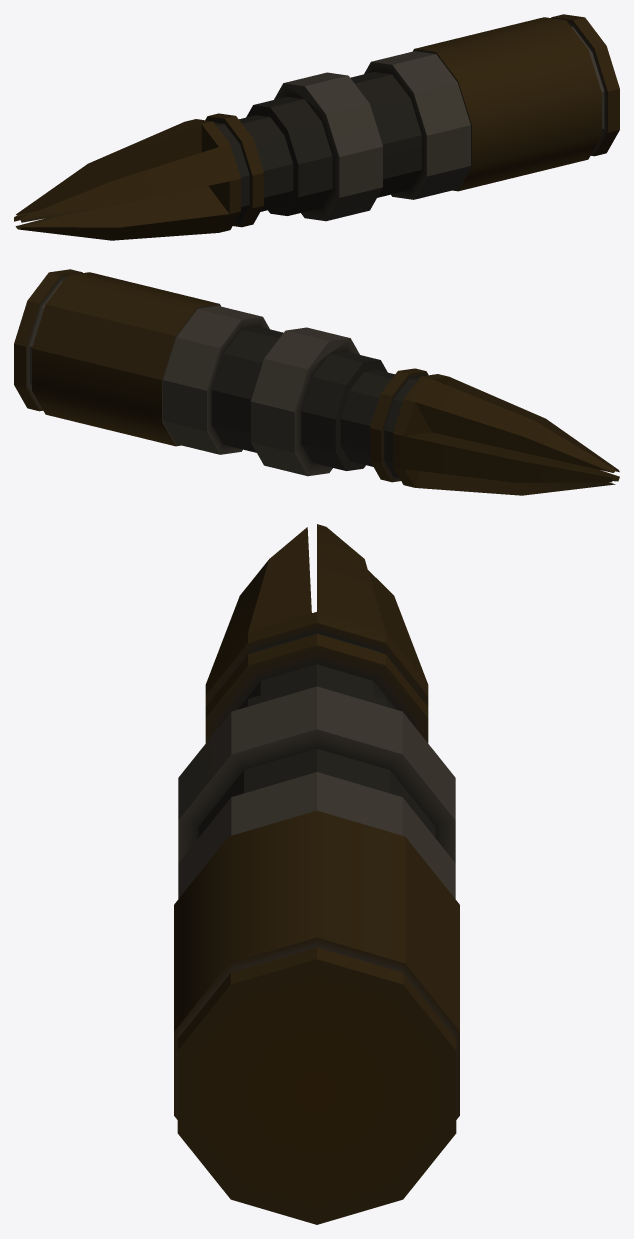
Rendered from Hunter_Skill_Bullet.fbx.
3 renders of one model, top to bottom at view 1: azimuth 30°, elevation 25°; view 2: azimuth 150°, elevation 25°; view 3: azimuth 270°, elevation 25°, orthographic. The views are drawn at different scales.
Parts seen in each view (by area): view 1: pCylinder1; view 2: pCylinder1; view 3: pCylinder1.
Part boxes in pixels (left/top/right/bottom): pCylinder1: left=14, top=14, right=619, bottom=240; pCylinder1: left=14, top=269, right=619, bottom=495; pCylinder1: left=174, top=524, right=459, bottom=1224.
Size of the model in its own units: 8.72 by 2 by 1.9.
